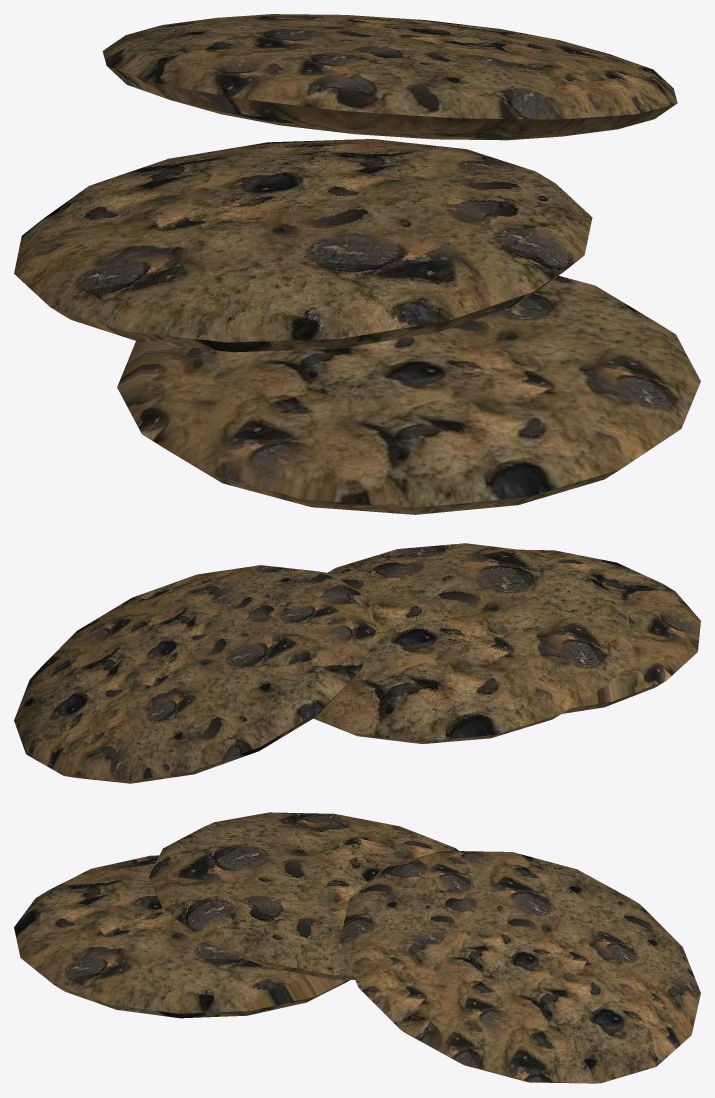
The picture shows the model from 3 angles, top to bottom: view 1: azimuth 30°, elevation 25°; view 2: azimuth 150°, elevation 25°; view 3: azimuth 270°, elevation 25°; orthographic projection. The views are drawn at different scales.
Visible parts, largest first — view 1: Sphere_1, Sphere, Sphere_2; view 2: Sphere_2, Sphere_1, Sphere; view 3: Sphere_2, Sphere_1, Sphere.
Part boxes in pixels (box(x1,y1,x2,y2)): Sphere_1: box(14, 139, 592, 352); Sphere: box(117, 275, 700, 514); Sphere_2: box(102, 14, 677, 140); Sphere_2: box(14, 565, 376, 783); Sphere_1: box(313, 543, 632, 743); Sphere: box(520, 549, 700, 713); Sphere_2: box(340, 851, 700, 1083); Sphere_1: box(149, 812, 458, 979); Sphere: box(14, 855, 350, 1018).
Size of the model in its own units: 4.01 by 1.04 by 5.13.
Materials: 4 (4 with a texture image).
